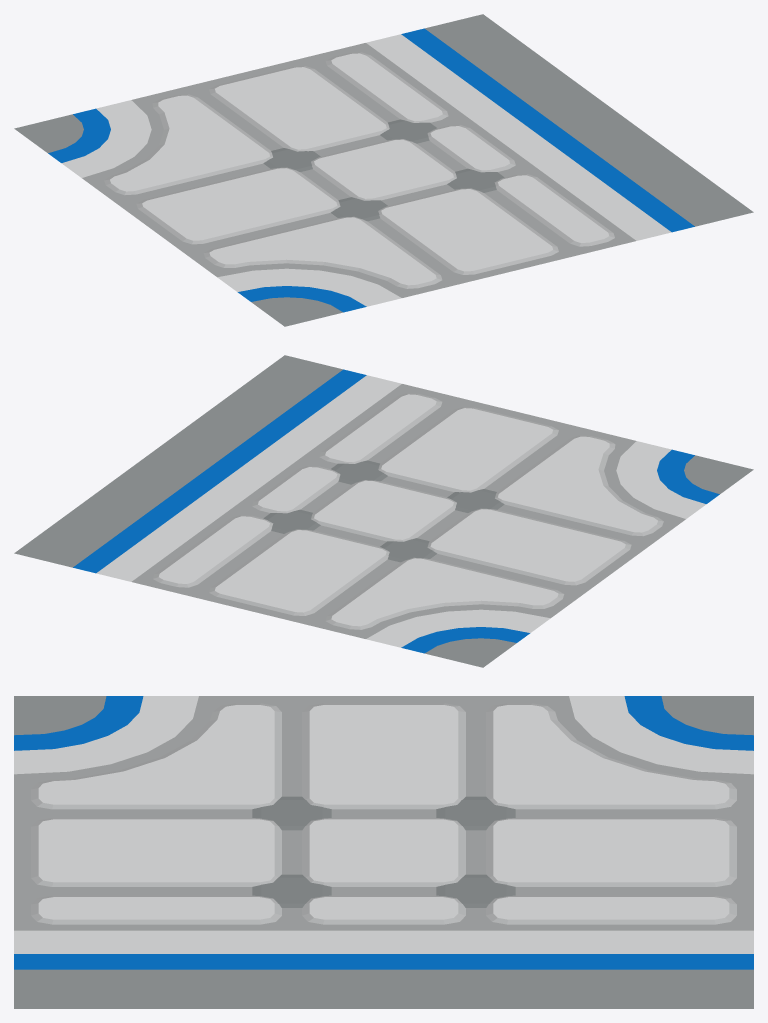
Rendered from Floor_type_A_014.glb.
The picture shows the model from 3 angles, top to bottom: view 1: azimuth 30°, elevation 25°; view 2: azimuth 150°, elevation 25°; view 3: azimuth 270°, elevation 25°; orthographic projection. The views are drawn at different scales.
Visible parts, largest first — view 1: Floor_type_A_014; view 2: Floor_type_A_014; view 3: Floor_type_A_014.
Part boxes in pixels (box(x1,y1,x2,y2)): Floor_type_A_014: box(14, 14, 753, 326); Floor_type_A_014: box(14, 355, 753, 667); Floor_type_A_014: box(14, 696, 753, 1008).
Bounding box in the file's own units: 4 × 0.0134 × 4.
Materials: 2 (2 with a texture image).
